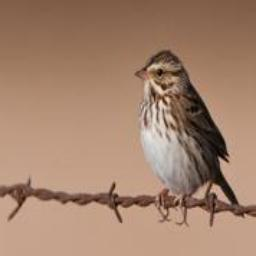Sparrow: (132, 50, 247, 224)
